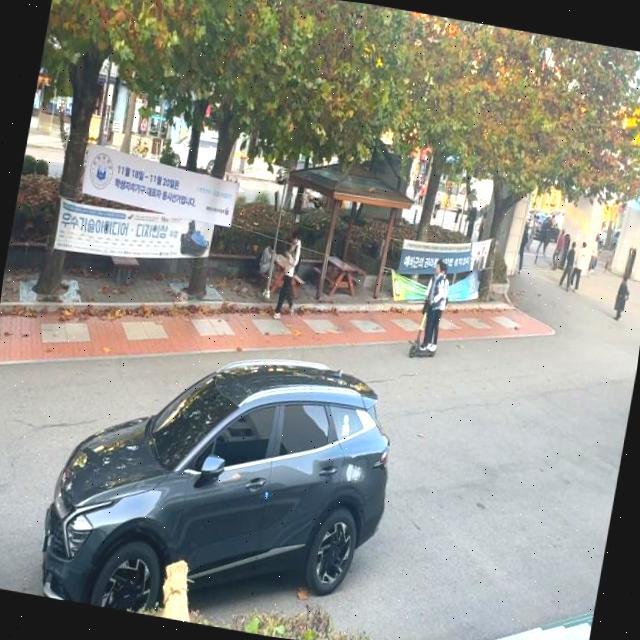bare_head: (430, 261, 446, 275), (441, 263, 451, 280)
human: (427, 261, 450, 351), (423, 259, 443, 353)
kickboard: (400, 334, 444, 361)
